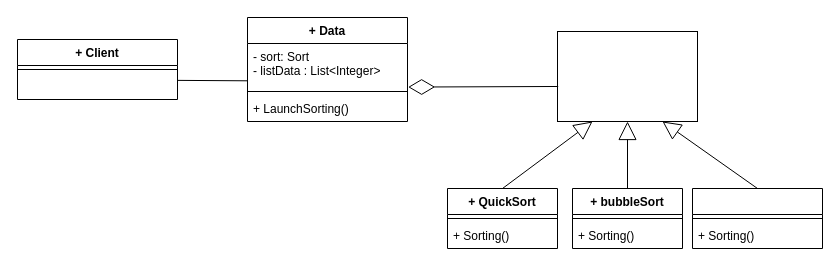
The diagram is 840 pixels wide and 269 high, and some of its shapes have lost their labels. Each missing label, with the box of its shape:
+ bySelectionSort: (692, 188, 822, 248)
<<Abstract>> + Sort + Sorting(): (556, 30, 698, 122)
